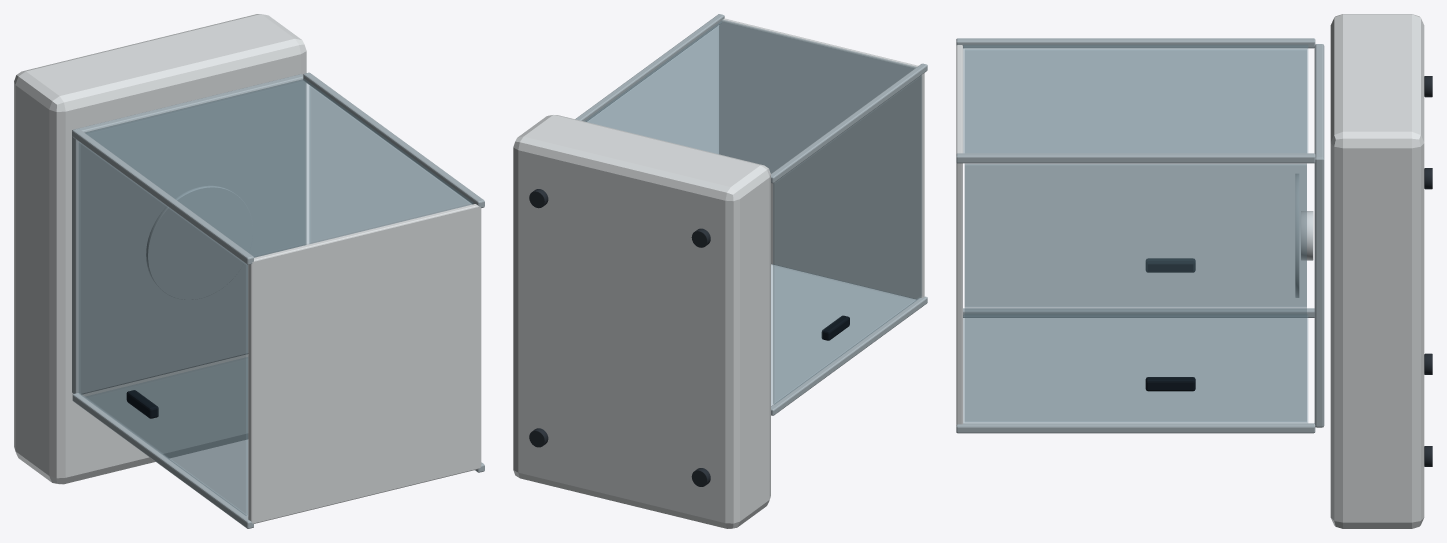
File: sartorius_entris_ii.glb
3 renders of one model, left to right at view 1: azimuth 30°, elevation 25°; view 2: azimuth 150°, elevation 25°; view 3: azimuth 270°, elevation 25°, orthographic. The views are drawn at different scales.
Visible parts, largest first — view 1: Balance base, Fixed front glass, 90 mm weighing pan; view 2: Balance base, Fixed front glass, 90 mm weighing pan, Rubber isolator; view 3: Fixed front glass, Balance base, 90 mm weighing pan, Balance LED display bezel, Rubber isolator, Pan pedestal.
Part boxes in pixels (x1,y1,x2,y2): Balance base: (14,14,481,523); Fixed front glass: (79,79,473,515); 90 mm weighing pan: (72,72,484,528); Balance base: (513,18,924,528); Fixed front glass: (584,20,921,405); 90 mm weighing pan: (575,14,927,415); Rubber isolator: (529,189,710,486); Fixed front glass: (963,45,1307,422); Balance base: (956,14,1424,528); 90 mm weighing pan: (956,38,1324,433); Balance LED display bezel: (1145,258,1195,391); Rubber isolator: (1424,76,1432,466); Pan pedestal: (1301,211,1313,260).
Bounding box in the file's own units: 0.219 × 0.3172 × 0.345.
